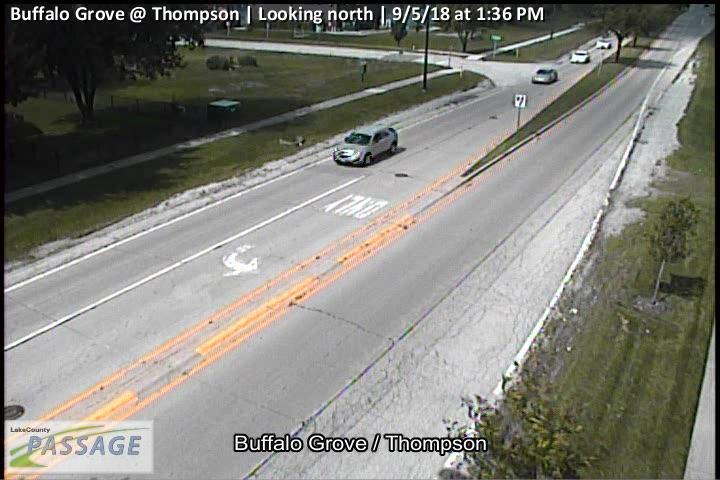Sedan: (333, 126, 398, 167), (532, 69, 558, 84), (571, 50, 588, 63), (596, 39, 611, 48)
